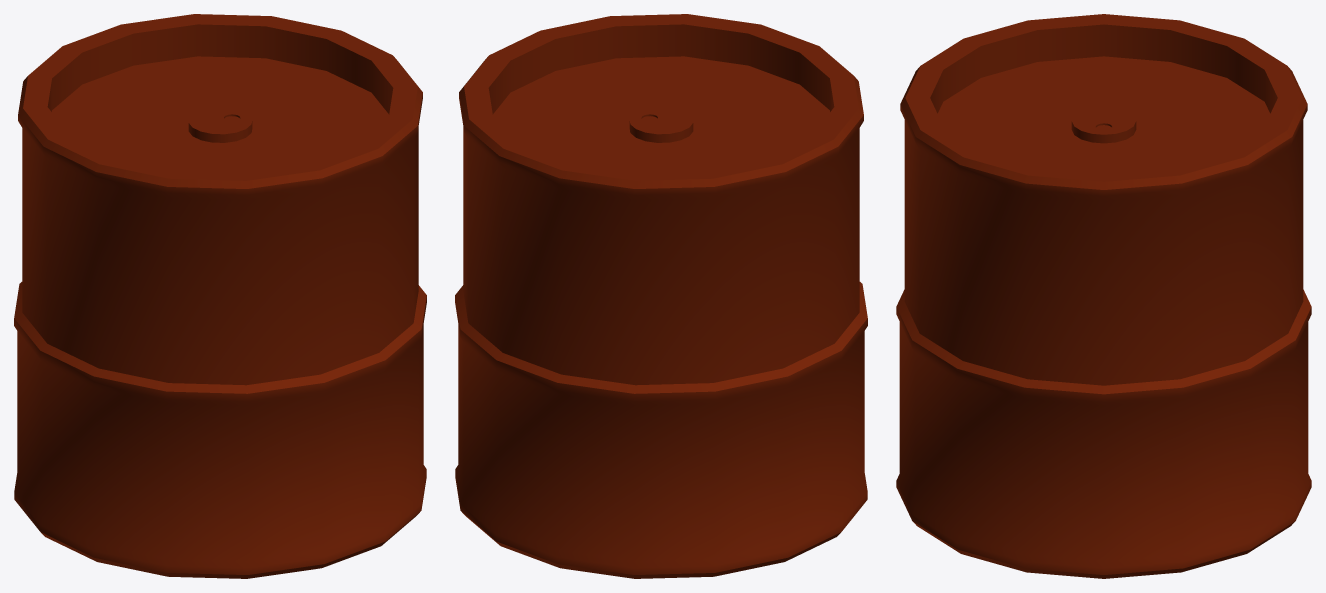
The model's file is gas16.glb.
The picture shows the model from 3 angles, left to right: view 1: azimuth 30°, elevation 25°; view 2: azimuth 150°, elevation 25°; view 3: azimuth 270°, elevation 25°; orthographic projection.
Visible parts, largest first — view 1: Gas16; view 2: Gas16; view 3: Gas16.
Boxes of the visible parts, x1=… form: Gas16: x1=14, y1=14, x2=426, y2=578; Gas16: x1=455, y1=14, x2=867, y2=578; Gas16: x1=896, y1=14, x2=1311, y2=578.
Size of the model in its own units: 1.99 by 2.1 by 1.99.
